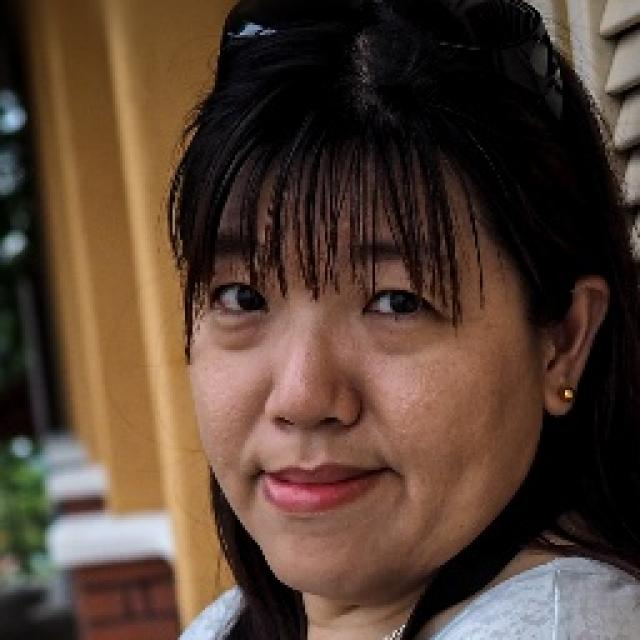earlobe: (543, 367, 578, 418)
eye: (366, 285, 438, 323), (213, 279, 270, 318)
nose: (265, 413, 357, 457)
wholeear: (542, 274, 608, 420)
